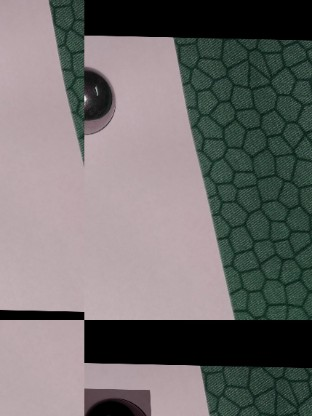ironball: (83, 65, 120, 141), (84, 388, 152, 415)
